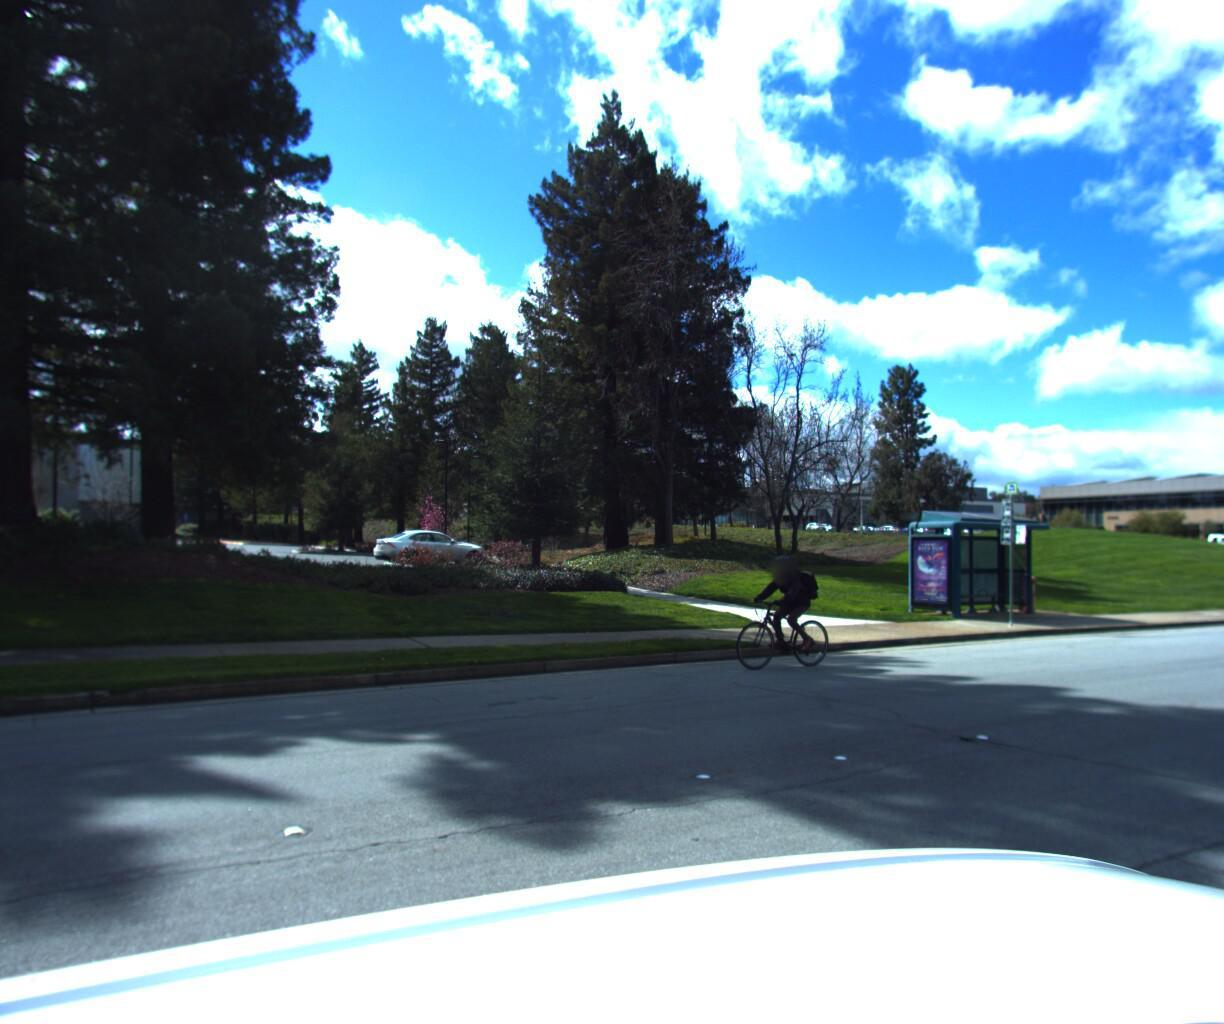bicycle: (716, 557, 850, 684)
